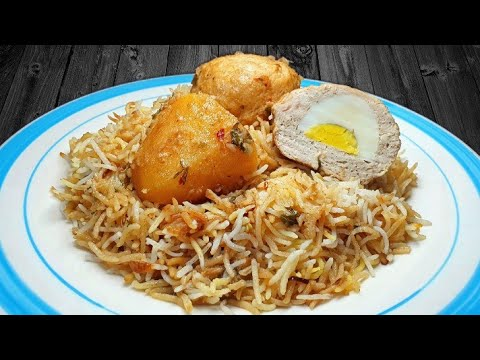Biryani: (39, 52, 422, 284)
